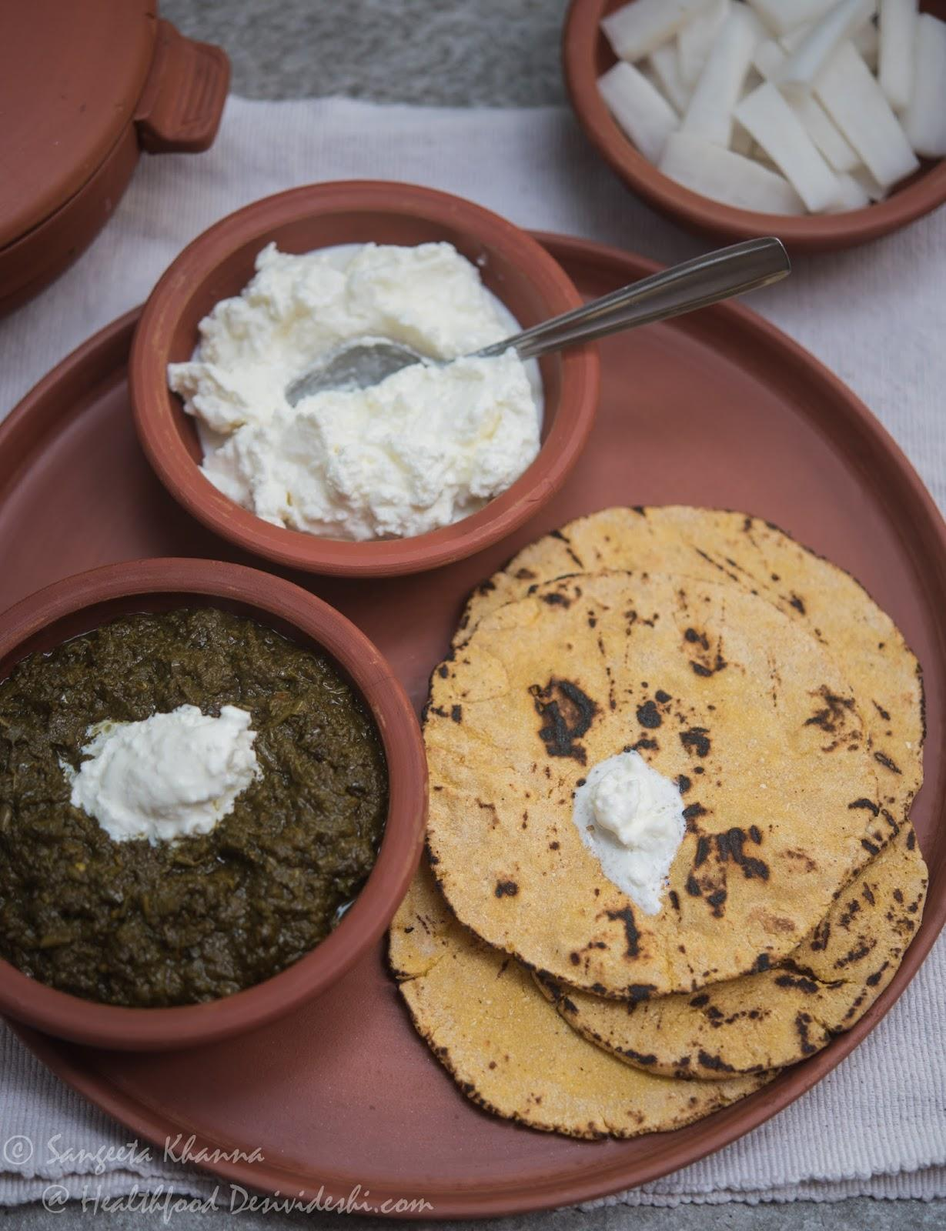saag: (0, 626, 384, 1001)
